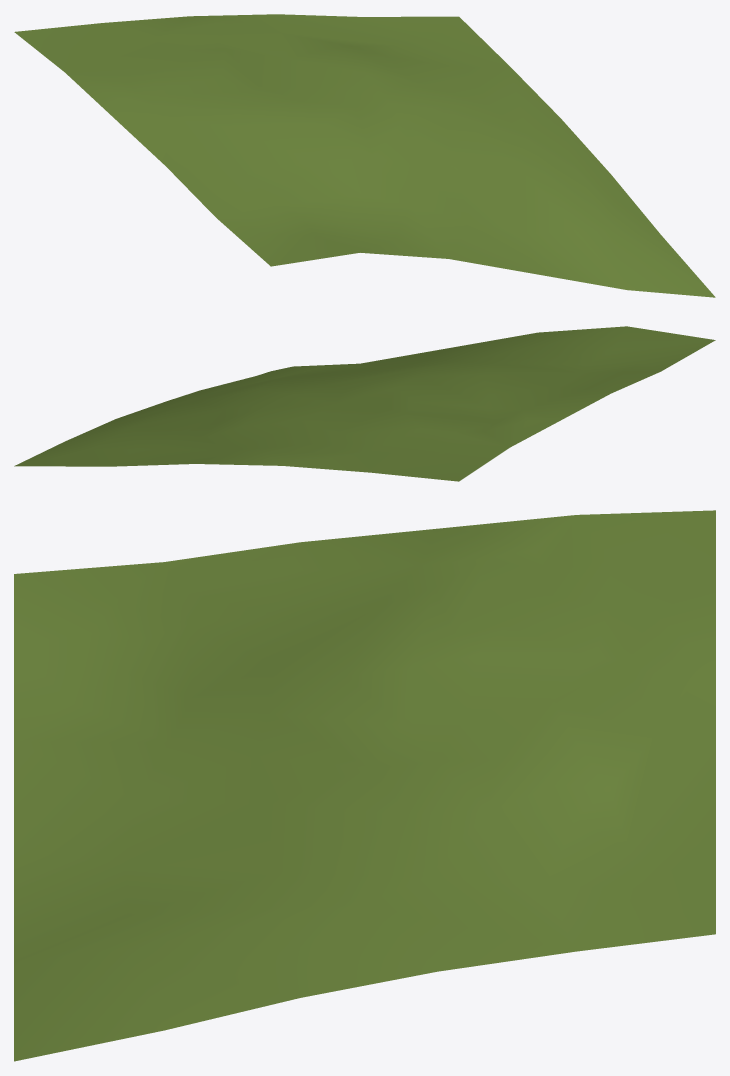
File: rpgpp_ag_terrain_hill_01e_10x10m_2-2-3-1m.fbx
3 renders of one model, top to bottom at view 1: azimuth 30°, elevation 25°; view 2: azimuth 150°, elevation 25°; view 3: azimuth 270°, elevation 25°, orthographic. The views are drawn at different scales.
Visible parts, largest first — view 1: rpgpp_ag_terrain_hill_01e_10x10m_2-2-3-1m; view 2: rpgpp_ag_terrain_hill_01e_10x10m_2-2-3-1m; view 3: rpgpp_ag_terrain_hill_01e_10x10m_2-2-3-1m.
Boxes of the visible parts, bbox=[...] form: rpgpp_ag_terrain_hill_01e_10x10m_2-2-3-1m: bbox=[14, 14, 715, 297]; rpgpp_ag_terrain_hill_01e_10x10m_2-2-3-1m: bbox=[14, 326, 715, 481]; rpgpp_ag_terrain_hill_01e_10x10m_2-2-3-1m: bbox=[14, 510, 715, 1061].
Bounding box in the file's own units: 10 × 4 × 10.
